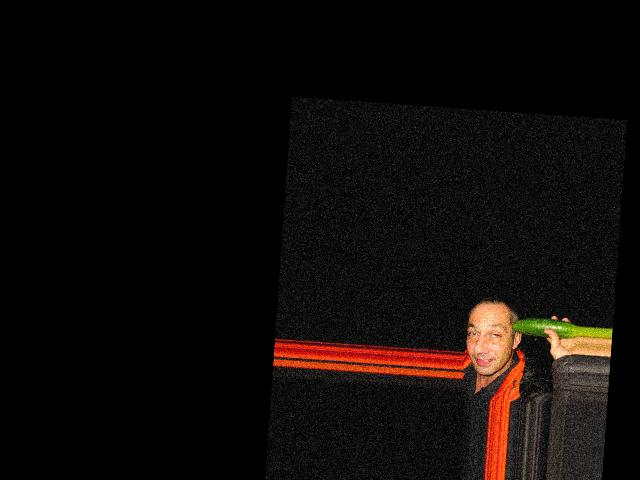cucumber: (510, 316, 577, 339)
